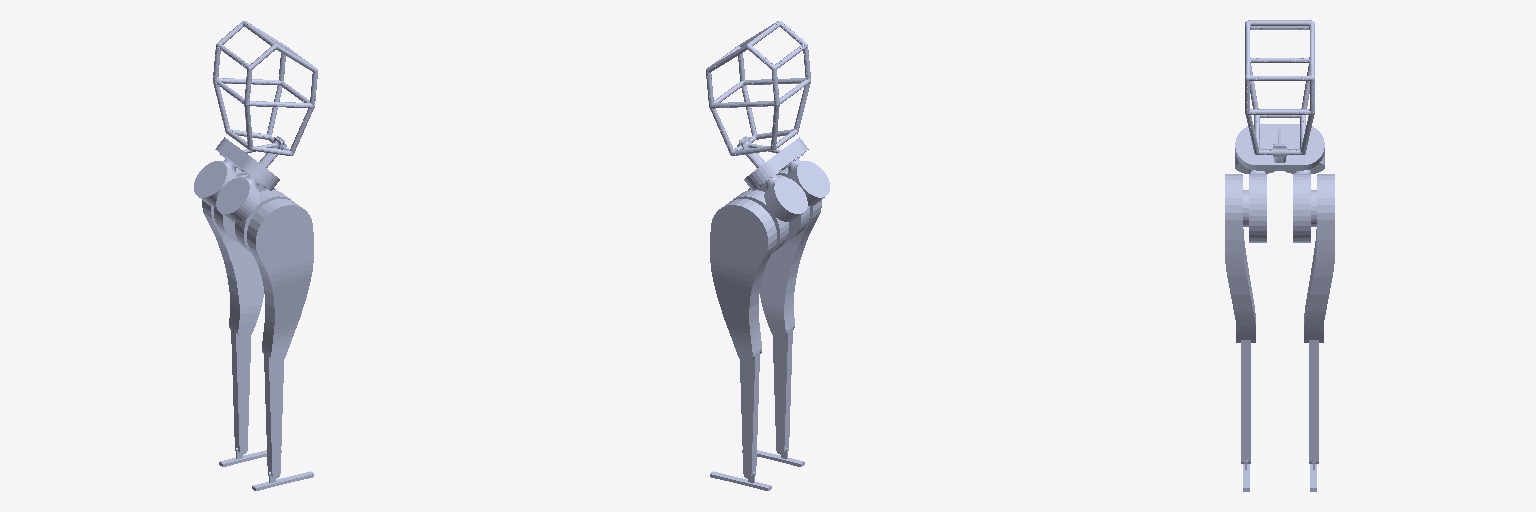
URDF robot description (TH01):
<?xml version="1.0" ?>
<!-- =================================================================================== -->
<!-- |    This document was autogenerated by csv to urdf                               | -->
<!-- |    EDITING THIS FILE BY HAND IS NOT RECOMMENDED                                 | -->
<!-- =================================================================================== -->
<robot
  name="TH01">
    <mujoco>
    <compiler meshdir="../meshes" balanceinertia="true"  discardvisual="false" />
  </mujoco>

  <link
    name="BASE_LINK">
    <inertial>
      <origin
        xyz="-0.08661 0 -0.00101"
        rpy="0 0 0" />
      <mass
        value="12.79294" />
      <inertia
        ixx="0.26746"
        ixy="-0.00007"
        ixz="-0.00676"
        iyy="0.3762"
        iyz="-0.00009"
        izz="0.24243" />
    </inertial>
    <visual>
      <origin
        xyz="0 0 0"
        rpy="0 0 0" />
      <geometry>
        <mesh
          filename="package://TH01/meshes/BASE_LINK.STL" />
      </geometry>
      <material
        name="">
        <color
          rgba="0.79216 0.81961 0.93333 1" />
      </material>
    </visual>
    <collision>
      <origin
        xyz="0 0 0"
        rpy="0 0 0" />
      <geometry>
        <mesh
          filename="package://TH01/meshes/BASE_LINK.STL" />
      </geometry>
    </collision>
  </link>
  <link
    name="HIP_R">
    <inertial>
      <origin
        xyz="0.00398 -0.00006 0.00636"
        rpy="0 0 0" />
      <mass
        value="0.83264" />
      <inertia
        ixx="0.0019"
        ixy="0"
        ixz="0"
        iyy="0.00124"
        iyz="0"
        izz="0.00094" />
    </inertial>
    <visual>
      <origin
        xyz="0 0 0"
        rpy="0 0 0" />
      <geometry>
        <mesh
          filename="package://TH01/meshes/HIP_R.STL" />
      </geometry>
      <material
        name="">
        <color
          rgba="0.79216 0.81961 0.93333 1" />
      </material>
    </visual>
    <collision>
      <origin
        xyz="0 0 0"
        rpy="0 0 0" />
      <geometry>
        <mesh
          filename="package://TH01/meshes/HIP_R.STL" />
      </geometry>
    </collision>
  </link>
  <joint
    name="HIP_YAW_R"
    type="revolute">
    <origin
      xyz="-0.18338 -0.0625 -0.25077"
      rpy="0 0.7854 0" />
    <parent
      link="BASE_LINK" />
    <child
      link="HIP_R" />
    <axis
      xyz="0 0 1" />
    <limit
      lower="0"
      upper="0"
      effort="0"
      velocity="0" />
  </joint>
  <link
    name="HIP_ABAD_R">
    <inertial>
      <origin
        xyz="-0.002 0.00147 0.00404"
        rpy="0 0 0" />
      <mass
        value="2.78794" />
      <inertia
        ixx="0.01442"
        ixy="0"
        ixz="-0.00002"
        iyy="0.00791"
        iyz="0"
        izz="0.0072" />
    </inertial>
    <visual>
      <origin
        xyz="0 0 0"
        rpy="0 0 0" />
      <geometry>
        <mesh
          filename="package://TH01/meshes/HIP_ABAD_R.STL" />
      </geometry>
      <material
        name="">
        <color
          rgba="0.79216 0.81961 0.93333 1" />
      </material>
    </visual>
    <collision>
      <origin
        xyz="0 0 0"
        rpy="0 0 0" />
      <geometry>
        <mesh
          filename="package://TH01/meshes/HIP_ABAD_R.STL" />
      </geometry>
    </collision>
  </link>
  <joint
    name="HIP_ROLL_R"
    type="revolute">
    <origin
      xyz="0.141 0 0"
      rpy="1.5708 0 -1.5708" />
    <parent
      link="HIP_R" />
    <child
      link="HIP_ABAD_R" />
    <axis
      xyz="0 0 1" />
    <limit
      lower="0"
      upper="0"
      effort="0"
      velocity="0" />
  </joint>
  <link
    name="FEMUR_R">
    <inertial>
      <origin
        xyz="0.06111 0.00174 0.02002"
        rpy="0 0 0" />
      <mass
        value="3.75384" />
      <inertia
        ixx="0.01172"
        ixy="0.00157"
        ixz="0.00098"
        iyy="0.07026"
        iyz="0.00014"
        izz="0.07594" />
    </inertial>
    <visual>
      <origin
        xyz="0 0 0"
        rpy="0 0 0" />
      <geometry>
        <mesh
          filename="package://TH01/meshes/FEMUR_R.STL" />
      </geometry>
      <material
        name="">
        <color
          rgba="0.79216 0.81961 0.93333 1" />
      </material>
    </visual>
    <collision>
      <origin
        xyz="0 0 0"
        rpy="0 0 0" />
      <geometry>
        <mesh
          filename="package://TH01/meshes/FEMUR_R.STL" />
      </geometry>
    </collision>
  </link>
  <joint
    name="HIP_PITCH_R"
    type="revolute">
    <origin
      xyz="0.029 0 0"
      rpy="-1.5708 0.7854 -1.5708" />
    <parent
      link="HIP_ABAD_R" />
    <child
      link="FEMUR_R" />
    <axis
      xyz="0 0 1" />
    <limit
      lower="0"
      upper="0"
      effort="0"
      velocity="0" />
  </joint>
  <link
    name="TIBIA_R">
    <inertial>
      <origin
        xyz="0.09678 0.00694 -0.00006"
        rpy="0 0 0" />
      <mass
        value="1.27716" />
      <inertia
        ixx="0.00091"
        ixy="0.00069"
        ixz="-0.00001"
        iyy="0.02323"
        iyz="0"
        izz="0.02318" />
    </inertial>
    <visual>
      <origin
        xyz="0 0 0"
        rpy="0 0 0" />
      <geometry>
        <mesh
          filename="package://TH01/meshes/TIBIA_R.STL" />
      </geometry>
      <material
        name="">
        <color
          rgba="0.79216 0.81961 0.93333 1" />
      </material>
    </visual>
    <collision>
      <origin
        xyz="0 0 0"
        rpy="0 0 0" />
      <geometry>
        <mesh
          filename="package://TH01/meshes/TIBIA_R.STL" />
      </geometry>
    </collision>
  </link>
  <joint
    name="KNEE_PITCH_R"
    type="revolute">
    <origin
      xyz="0.375 0 0"
      rpy="0 0 0" />
    <parent
      link="FEMUR_R" />
    <child
      link="TIBIA_R" />
    <axis
      xyz="0 0 1" />
    <limit
      lower="0"
      upper="0"
      effort="0"
      velocity="0" />
  </joint>
  <link
    name="ANKLE_R">
    <inertial>
      <origin
        xyz="0 0 0"
        rpy="0 0 0" />
      <mass
        value="0.00694571" />
      <inertia
        ixx="0.00000076"
        ixy="0"
        ixz="0"
        iyy="0.00000076"
        iyz="0"
        izz="0.00000004" />
    </inertial>
    <visual>
      <origin
        xyz="0 0 0"
        rpy="0 0 0" />
      <geometry>
        <mesh
          filename="package://TH01/meshes/ANKLE_R.STL" />
      </geometry>
      <material
        name="">
        <color
          rgba="0.79216 0.81961 0.93333 1" />
      </material>
    </visual>
    <collision>
      <origin
        xyz="0 0 0"
        rpy="0 0 0" />
      <geometry>
        <mesh
          filename="package://TH01/meshes/ANKLE_R.STL" />
      </geometry>
    </collision>
  </link>
  <joint
    name="ANKLE_PITCH_R"
    type="revolute">
    <origin
      xyz="0.375 0 0"
      rpy="0 0 0" />
    <parent
      link="TIBIA_R" />
    <child
      link="ANKLE_R" />
    <axis
      xyz="0 0 1" />
    <limit
      lower="0"
      upper="0"
      effort="0"
      velocity="0" />
  </joint>
  <link
    name="FOOT_R">
    <inertial>
      <origin
        xyz="0.01948 -0.00003 0.03906"
        rpy="0 0 0" />
      <mass
        value="0.17981" />
      <inertia
        ixx="0.00068"
        ixy="0"
        ixz="0.00016"
        iyy="0.00072"
        iyz="0"
        izz="0.00013" />
    </inertial>
    <visual>
      <origin
        xyz="0 0 0"
        rpy="0 0 0" />
      <geometry>
        <mesh
          filename="package://TH01/meshes/FOOT_R.STL" />
      </geometry>
      <material
        name="">
        <color
          rgba="0.79216 0.81961 0.93333 1" />
      </material>
    </visual>
    <collision>
      <origin
        xyz="0 0 0"
        rpy="0 0 0" />
      <geometry>
        <mesh
          filename="package://TH01/meshes/FOOT_R.STL" />
      </geometry>
    </collision>
  </link>
  <joint
    name="ANKLE_ROLL_R"
    type="revolute">
    <origin
      xyz="0 0 0"
      rpy="-1.5708 0 0" />
    <parent
      link="ANKLE_R" />
    <child
      link="FOOT_R" />
    <axis
      xyz="0 0 1" />
    <limit
      lower="0"
      upper="0"
      effort="0"
      velocity="0" />
  </joint>
  <link
    name="HIP_L">
    <inertial>
      <origin
        xyz="0.00398 -0.00006 0.00636"
        rpy="0 0 0" />
      <mass
        value="0.83264" />
      <inertia
        ixx="0.0019"
        ixy="0"
        ixz="0"
        iyy="0.00124"
        iyz="0"
        izz="0.00094" />
    </inertial>
    <visual>
      <origin
        xyz="0 0 0"
        rpy="0 0 0" />
      <geometry>
        <mesh
          filename="package://TH01/meshes/HIP_L.STL" />
      </geometry>
      <material
        name="">
        <color
          rgba="0.79216 0.81961 0.93333 1" />
      </material>
    </visual>
    <collision>
      <origin
        xyz="0 0 0"
        rpy="0 0 0" />
      <geometry>
        <mesh
          filename="package://TH01/meshes/HIP_L.STL" />
      </geometry>
    </collision>
  </link>
  <joint
    name="HIP_YAW_L"
    type="revolute">
    <origin
      xyz="-0.18337794 0.0625 -0.25076794"
      rpy="0 0.7854 0" />
    <parent
      link="BASE_LINK" />
    <child
      link="HIP_L" />
    <axis
      xyz="0 0 1" />
    <limit
      lower="0"
      upper="0"
      effort="0"
      velocity="0" />
  </joint>
  <link
    name="HIP_ABAD_L">
    <inertial>
      <origin
        xyz="0.00198 0.00146 0.00395"
        rpy="0 0 0" />
      <mass
        value="2.818" />
      <inertia
        ixx="0.01442"
        ixy="0"
        ixz="0.00002"
        iyy="0.00791"
        iyz="0"
        izz="0.0072" />
    </inertial>
    <visual>
      <origin
        xyz="0 0 0"
        rpy="0 0 0" />
      <geometry>
        <mesh
          filename="package://TH01/meshes/HIP_ABAD_L.STL" />
      </geometry>
      <material
        name="">
        <color
          rgba="0.79216 0.81961 0.93333 1" />
      </material>
    </visual>
    <collision>
      <origin
        xyz="0 0 0"
        rpy="0 0 0" />
      <geometry>
        <mesh
          filename="package://TH01/meshes/HIP_ABAD_L.STL" />
      </geometry>
    </collision>
  </link>
  <joint
    name="HIP_ROLL_L"
    type="revolute">
    <origin
      xyz="0.141 0 0"
      rpy="1.5708 0 -1.5708" />
    <parent
      link="HIP_L" />
    <child
      link="HIP_ABAD_L" />
    <axis
      xyz="0 0 1" />
    <limit
      lower="0"
      upper="0"
      effort="0"
      velocity="0" />
  </joint>
  <link
    name="FEMUR_L">
    <inertial>
      <origin
        xyz="0.06112 0.00177 -0.02002"
        rpy="0 0 0" />
      <mass
        value="3.75393" />
      <inertia
        ixx="0.01172"
        ixy="0.00157"
        ixz="-0.00098"
        iyy="0.07027"
        iyz="-0.00014"
        izz="0.07595" />
    </inertial>
    <visual>
      <origin
        xyz="0 0 0"
        rpy="0 0 0" />
      <geometry>
        <mesh
          filename="package://TH01/meshes/FEMUR_L.STL" />
      </geometry>
      <material
        name="">
        <color
          rgba="0.79216 0.81961 0.93333 1" />
      </material>
    </visual>
    <collision>
      <origin
        xyz="0 0 0"
        rpy="0 0 0" />
      <geometry>
        <mesh
          filename="package://TH01/meshes/FEMUR_L.STL" />
      </geometry>
    </collision>
  </link>
  <joint
    name="HIP_PITCH_L"
    type="revolute">
    <origin
      xyz="-0.029 0 0"
      rpy="-1.5708 0.7854 -1.5708" />
    <parent
      link="HIP_ABAD_L" />
    <child
      link="FEMUR_L" />
    <axis
      xyz="0 0 1" />
    <limit
      lower="0"
      upper="0"
      effort="0"
      velocity="0" />
  </joint>
  <link
    name="TIBIA_L">
    <inertial>
      <origin
        xyz="0.09678 0.00694 -0.00006"
        rpy="0 0 0" />
      <mass
        value="1.27716" />
      <inertia
        ixx="0.00091"
        ixy="0.00069"
        ixz="-0.00001"
        iyy="0.02323"
        iyz="0"
        izz="0.02318" />
    </inertial>
    <visual>
      <origin
        xyz="0 0 0"
        rpy="0 0 0" />
      <geometry>
        <mesh
          filename="package://TH01/meshes/TIBIA_L.STL" />
      </geometry>
      <material
        name="">
        <color
          rgba="0.79216 0.81961 0.93333 1" />
      </material>
    </visual>
    <collision>
      <origin
        xyz="0 0 0"
        rpy="0 0 0" />
      <geometry>
        <mesh
          filename="package://TH01/meshes/TIBIA_L.STL" />
      </geometry>
    </collision>
  </link>
  <joint
    name="KNEE_PITCH_L"
    type="revolute">
    <origin
      xyz="0.375 0 0"
      rpy="0 0 0" />
    <parent
      link="FEMUR_L" />
    <child
      link="TIBIA_L" />
    <axis
      xyz="0 0 1" />
    <limit
      lower="0"
      upper="0"
      effort="0"
      velocity="0" />
  </joint>
  <link
    name="ANKLE_L">
    <inertial>
      <origin
        xyz="0 0 0"
        rpy="0 0 0" />
      <mass
        value="0.00694571" />
      <inertia
        ixx="1e-7"
        ixy="1e-7"
        ixz="1e-7"
        iyy="1e-7"
        iyz="1e-7"
        izz="1e-7" />
    </inertial>
    <visual>
      <origin
        xyz="0 0 0"
        rpy="0 0 0" />
      <geometry>
        <mesh
          filename="package://TH01/meshes/ANKLE_L.STL" />
      </geometry>
      <material
        name="">
        <color
          rgba="0.79216 0.81961 0.93333 1" />
      </material>
    </visual>
    <collision>
      <origin
        xyz="0 0 0"
        rpy="0 0 0" />
      <geometry>
        <mesh
          filename="package://TH01/meshes/ANKLE_L.STL" />
      </geometry>
    </collision>
  </link>
  <joint
    name="ANKLE_PITCH_L"
    type="revolute">
    <origin
      xyz="0.375 0 0"
      rpy="0 0 0" />
    <parent
      link="TIBIA_L" />
    <child
      link="ANKLE_L" />
    <axis
      xyz="0 0 1" />
    <limit
      lower="0"
      upper="0"
      effort="0"
      velocity="0" />
  </joint>
  <link
    name="FOOT_L">
    <inertial>
      <origin
        xyz="0.01948 -0.00003 0.03906"
        rpy="0 0 0" />
      <mass
        value="0.17981" />
      <inertia
        ixx="0.00068"
        ixy="0"
        ixz="0.00016"
        iyy="0.00072"
        iyz="0"
        izz="0.00013" />
    </inertial>
    <visual>
      <origin
        xyz="0 0 0"
        rpy="0 0 0" />
      <geometry>
        <mesh
          filename="package://TH01/meshes/FOOT_L.STL" />
      </geometry>
      <material
        name="">
        <color
          rgba="0.79216 0.81961 0.93333 1" />
      </material>
    </visual>
    <collision>
      <origin
        xyz="0 0 0"
        rpy="0 0 0" />
      <geometry>
        <mesh
          filename="package://TH01/meshes/FOOT_L.STL" />
      </geometry>
    </collision>
  </link>
  <joint
    name="ANKLE_ROLL_L"
    type="revolute">
    <origin
      xyz="0 0 0"
      rpy="-1.5708 0 0" />
    <parent
      link="ANKLE_L" />
    <child
      link="FOOT_L" />
    <axis
      xyz="0 0 1" />
    <limit
      lower="0"
      upper="0"
      effort="0"
      velocity="0" />
  </joint>
</robot>

--- Render facts (derived) ---
Views: 3 orthographic renders of the robot side by side, from view 1: azimuth 30°, elevation 25°; view 2: azimuth 150°, elevation 25°; view 3: azimuth 270°, elevation 25°.
Robot: TH01 — 13 links, 12 joints (12 revolute); root link BASE_LINK; default pose: every joint at zero.
Visible links, largest first — view 1: FEMUR_R, BASE_LINK, FEMUR_L, TIBIA_L, TIBIA_R, HIP_R, HIP_L, HIP_ABAD_R; view 2: FEMUR_L, BASE_LINK, FEMUR_R, TIBIA_R, TIBIA_L, HIP_L, HIP_R, HIP_ABAD_L; view 3: BASE_LINK, FEMUR_R, FEMUR_L, HIP_ABAD_R, HIP_ABAD_L, TIBIA_R, TIBIA_L.
Link boxes in pixels (<box>): FEMUR_R: <box>247,199,313,361</box>; BASE_LINK: <box>213,21,317,190</box>; FEMUR_L: <box>202,168,263,337</box>; TIBIA_L: <box>229,322,253,454</box>; TIBIA_R: <box>262,347,285,478</box>; HIP_R: <box>216,175,259,221</box>; HIP_L: <box>194,159,236,205</box>; HIP_ABAD_R: <box>235,190,293,252</box>; FEMUR_L: <box>710,199,776,361</box>; BASE_LINK: <box>706,21,810,190</box>; FEMUR_R: <box>760,168,821,337</box>; TIBIA_R: <box>770,322,794,454</box>; TIBIA_L: <box>738,347,761,477</box>; HIP_L: <box>764,175,807,221</box>; HIP_R: <box>787,159,829,205</box>; HIP_ABAD_L: <box>730,190,788,252</box>; BASE_LINK: <box>1235,20,1324,170</box>; FEMUR_R: <box>1225,174,1255,341</box>; FEMUR_L: <box>1304,174,1334,341</box>; HIP_ABAD_R: <box>1243,169,1266,242</box>; HIP_ABAD_L: <box>1293,169,1316,242</box>; TIBIA_R: <box>1236,340,1255,460</box>; TIBIA_L: <box>1304,340,1323,460</box>.
Size in the robot's own frame: 0.3001 by 0.2978 by 1.35 metres.
Meshes: 13 distinct files referenced, 13 mesh visuals loaded (13 binary STL).